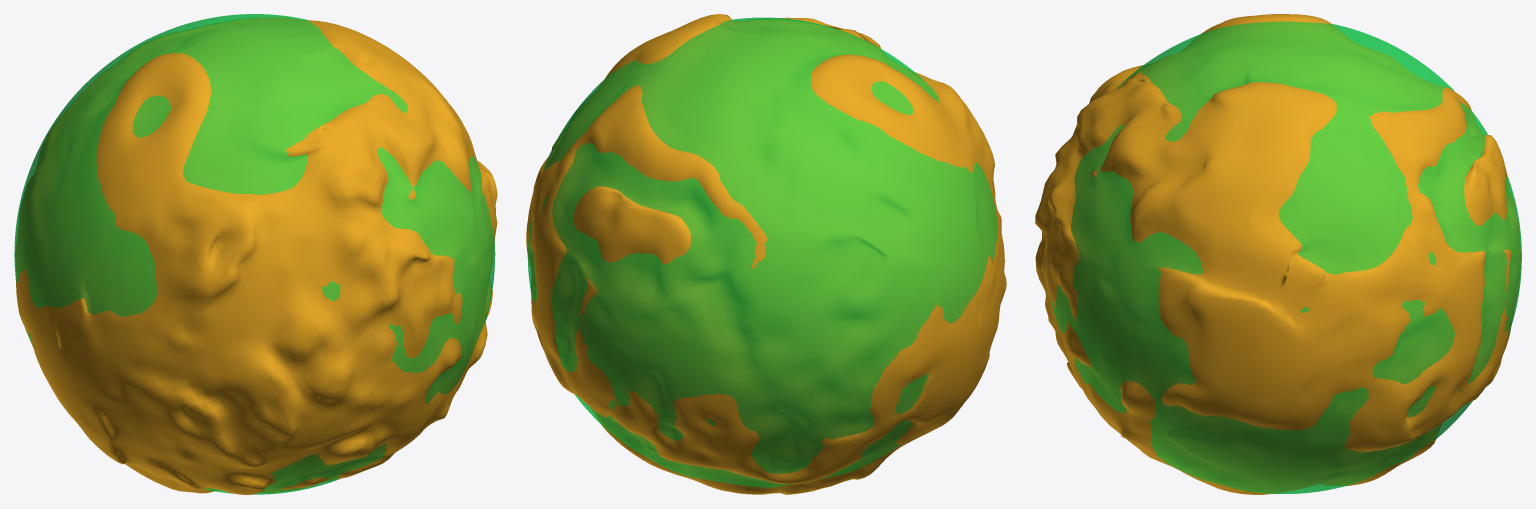
File: Planet4.glb
3 renders of one model, left to right at view 1: azimuth 30°, elevation 25°; view 2: azimuth 150°, elevation 25°; view 3: azimuth 270°, elevation 25°, orthographic.
Parts seen in each view (by area): view 1: Cube, Cube.001; view 2: Cube, Cube.001; view 3: Cube, Cube.001.
Boxes of the visible parts, <box> form: Cube: <box>15,17,497,494</box>; Cube.001: <box>14,14,495,494</box>; Cube: <box>526,14,1006,494</box>; Cube.001: <box>527,17,997,487</box>; Cube: <box>1035,14,1520,494</box>; Cube.001: <box>1050,21,1521,493</box>.
Bounding box in the file's own units: 10.09 × 10.12 × 10.24.
